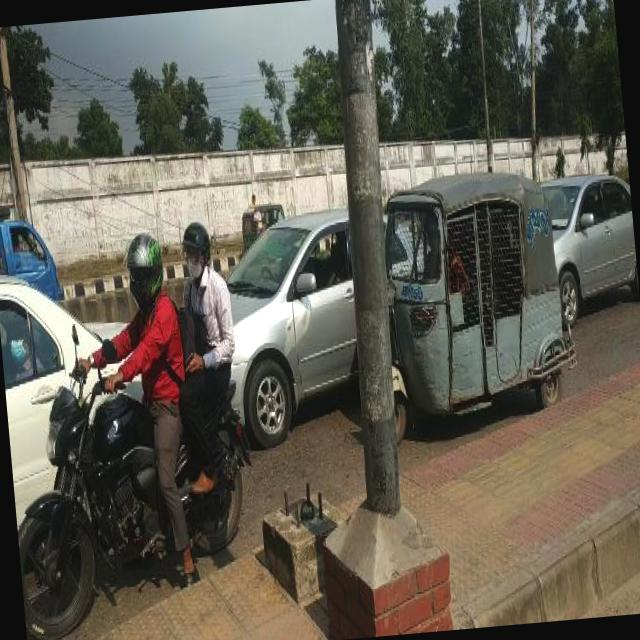car: (220, 204, 362, 450), (550, 165, 640, 325)
motorcycle: (4, 355, 262, 640), (376, 162, 578, 422)
truck: (0, 209, 63, 301)
